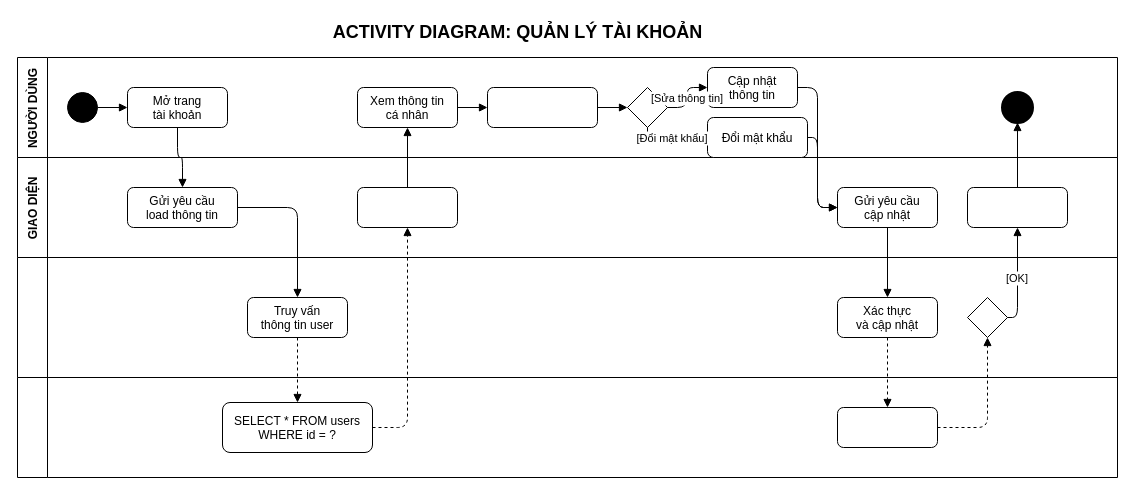
The diagram is 1135 pixels wide and 495 high, and some of its shapes have lost their labels. The box of each missing label's shape, as (x1, y1, x2, y2) in pixels:
Chọn hành động: (486, 86, 598, 128)
CƠ SỞ DỮ LIỆU: (16, 376, 1118, 478)
Hiển thị form thông tin: (356, 186, 458, 228)
Hiển thị thành công: (966, 186, 1068, 228)
HỆ THỐNG: (16, 256, 1118, 378)
UPDATE users: (836, 406, 938, 448)
